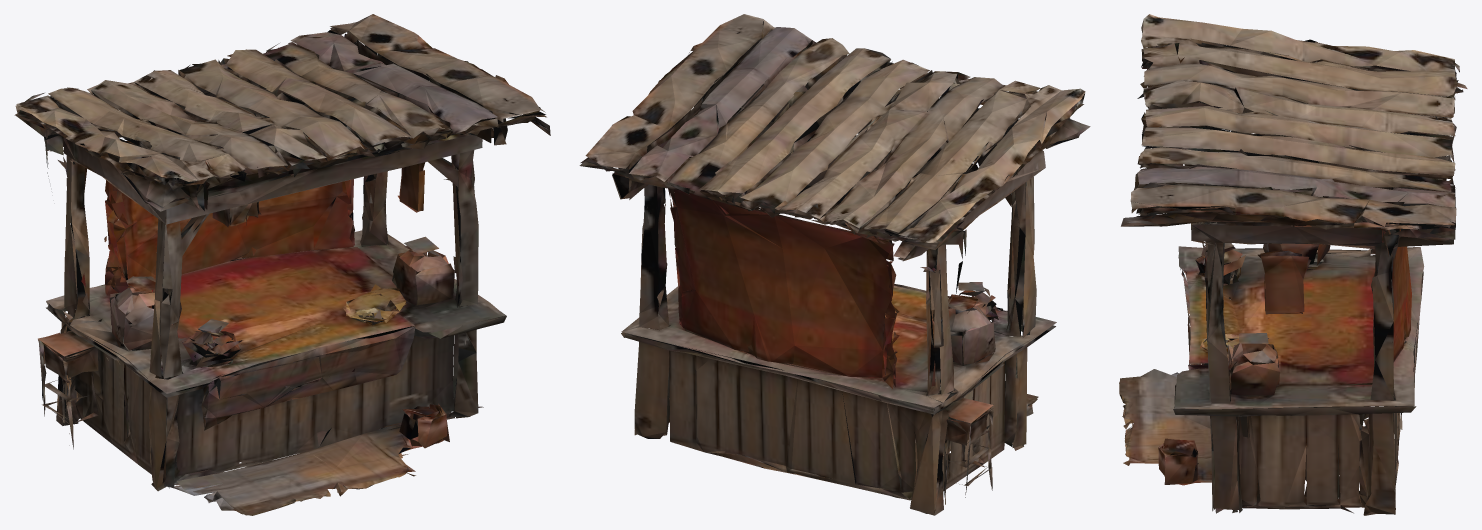
The model's file is stall_rug_wood_lod0.glb.
3 renders of one model, left to right at view 1: azimuth 30°, elevation 25°; view 2: azimuth 150°, elevation 25°; view 3: azimuth 270°, elevation 25°, orthographic. The views are drawn at different scales.
Parts seen in each view (by area): view 1: stall_rug_wood_lod0; view 2: stall_rug_wood_lod0; view 3: stall_rug_wood_lod0.
Boxes of the visible parts, x1=… form: stall_rug_wood_lod0: x1=14, y1=14, x2=550, y2=515; stall_rug_wood_lod0: x1=579, y1=14, x2=1090, y2=515; stall_rug_wood_lod0: x1=1119, y1=14, x2=1467, y2=515.
Bounding box in the file's own units: 3 × 2.65 × 2.45.
1 material, 1 textured.
